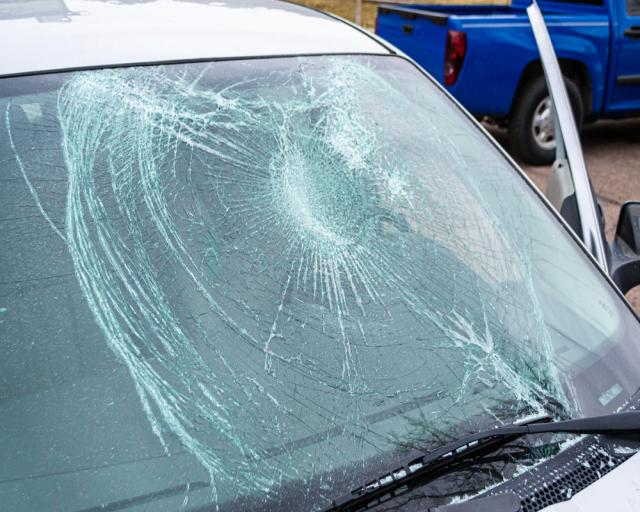glass shatter: (0, 54, 640, 512)
